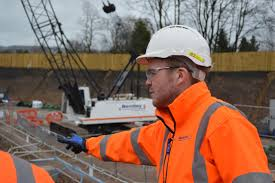Hard Hat: (136, 22, 218, 62)
High Viz: (158, 96, 241, 183)
